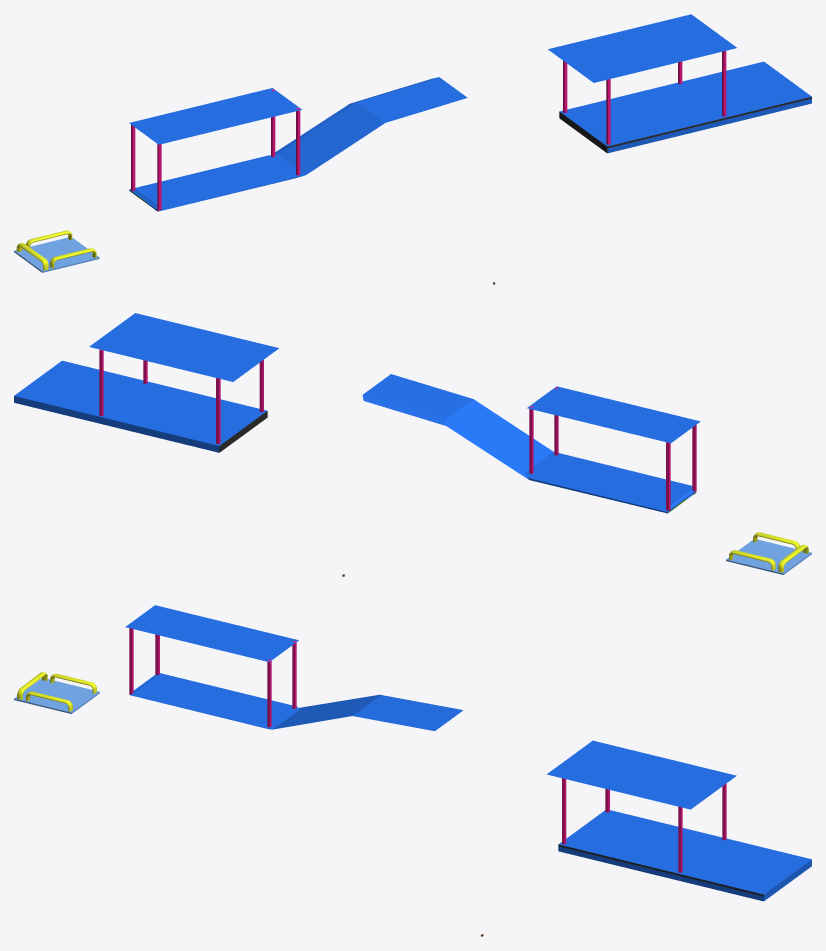
Rendered from Baranda.Proyecto 3.fbx.
The picture shows the model from 3 angles, top to bottom: view 1: azimuth 30°, elevation 25°; view 2: azimuth 150°, elevation 25°; view 3: azimuth 330°, elevation 25°; orthographic projection.
Parts seen in each view (by area): view 1: Plane.001, Cube.001, Plane.002, Plane, Cube; view 2: Cube.001, Plane.001, Plane.002, Plane, Cube; view 3: Plane.001, Cube.001, Plane.002, Plane, Cube.
Part boxes in pixels (x1,y1,x2,y2): Plane.001: (559,61,811,153); Cube.001: (129,77,495,284); Plane.002: (548,14,736,82); Plane: (129,88,301,144); Cube: (14,237,99,272); Cube.001: (342,374,696,576); Plane.001: (14,360,267,452); Plane.002: (89,313,278,381); Plane: (527,386,700,443); Cube: (726,539,811,574); Plane.001: (558,810,811,901); Cube.001: (130,673,483,936); Plane.002: (547,740,736,809); Plane: (125,605,298,661); Cube: (14,678,99,713).
Size of the model in its own units: 54863 by 15986 by 6010.
Materials: 12 (12 with a texture image).
